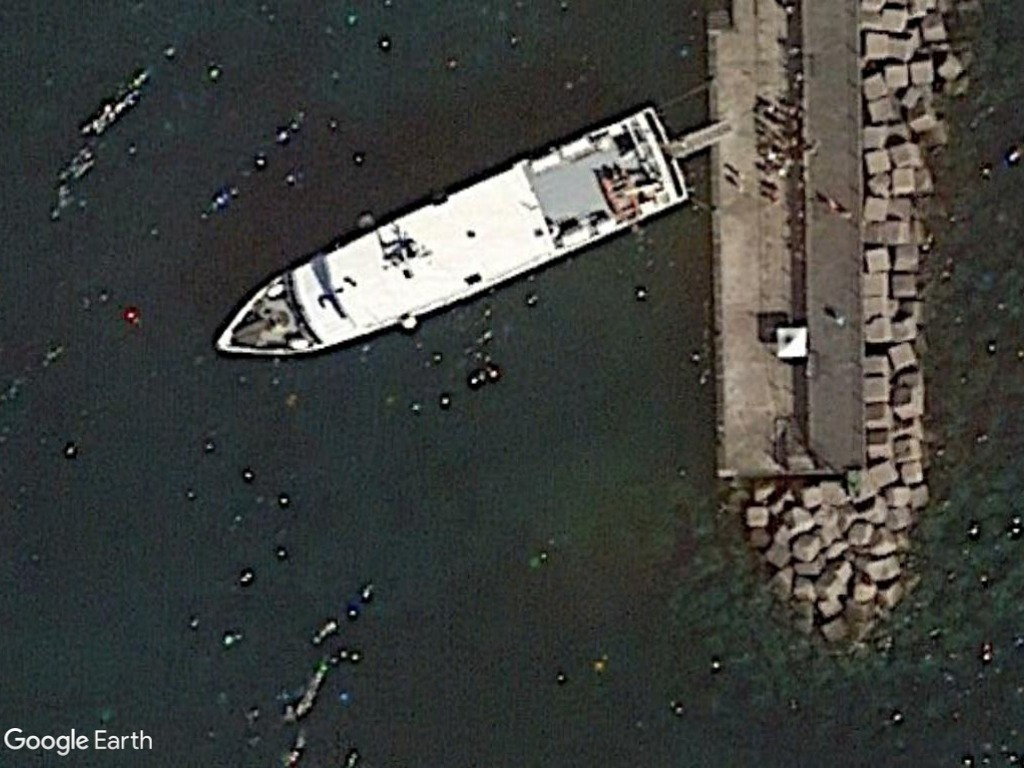boat: (205, 91, 685, 395)
